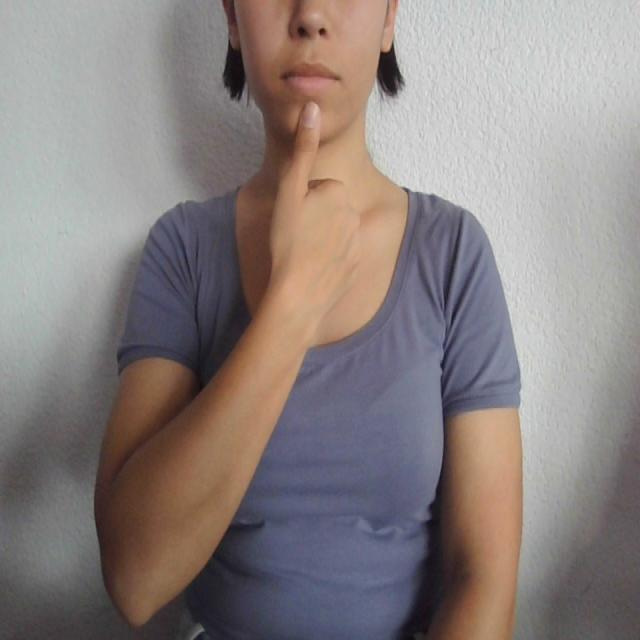Baba: (272, 51, 350, 181)
